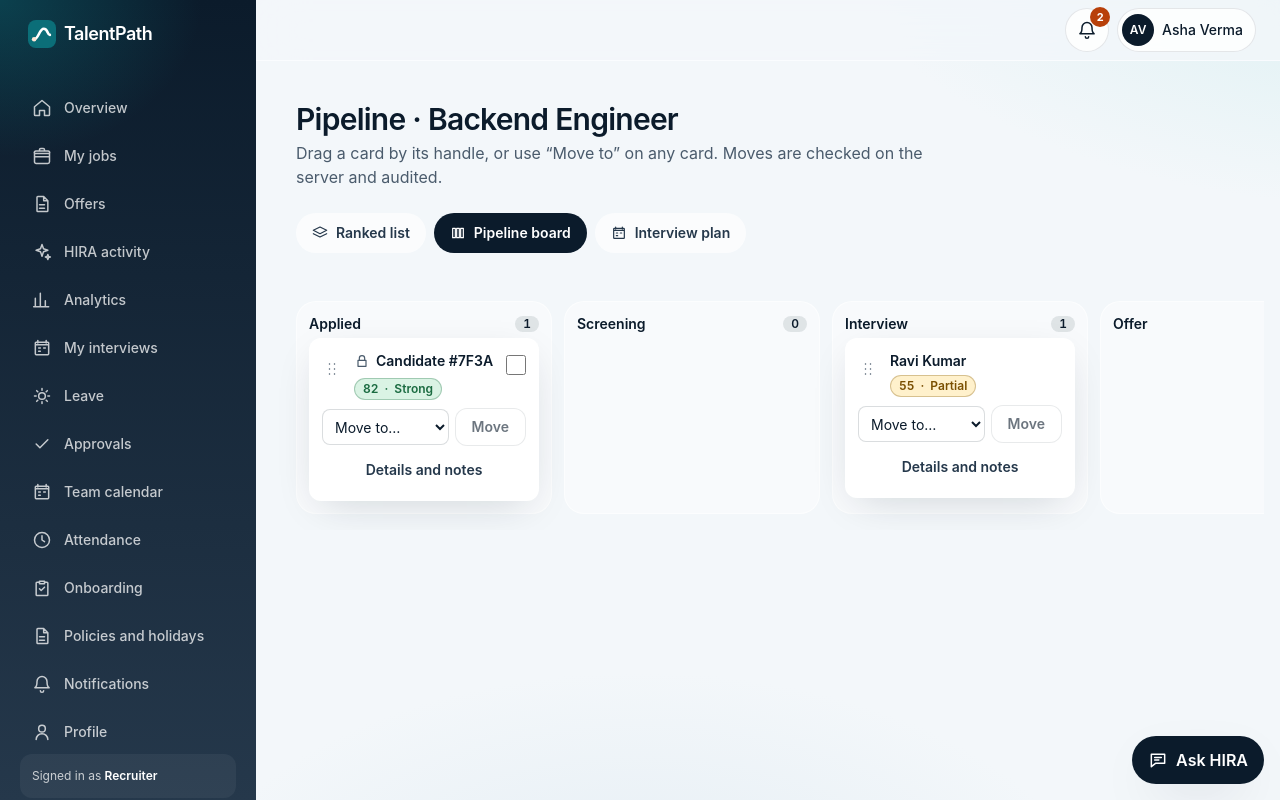
Scenario: pipeline board › moves a card with the keyboard-friendly Move to menu
expect the heading "Applied 1" is shown: met, box [309, 314, 539, 334]
expect the button named "Drag Candidate #7F3A" is shown: met, box [318, 351, 346, 387]
Select "Screening" in the dropdown named "Move Candidate #7F3A to" below "Candidate #7F3A" at [385, 427], box [322, 409, 449, 445]
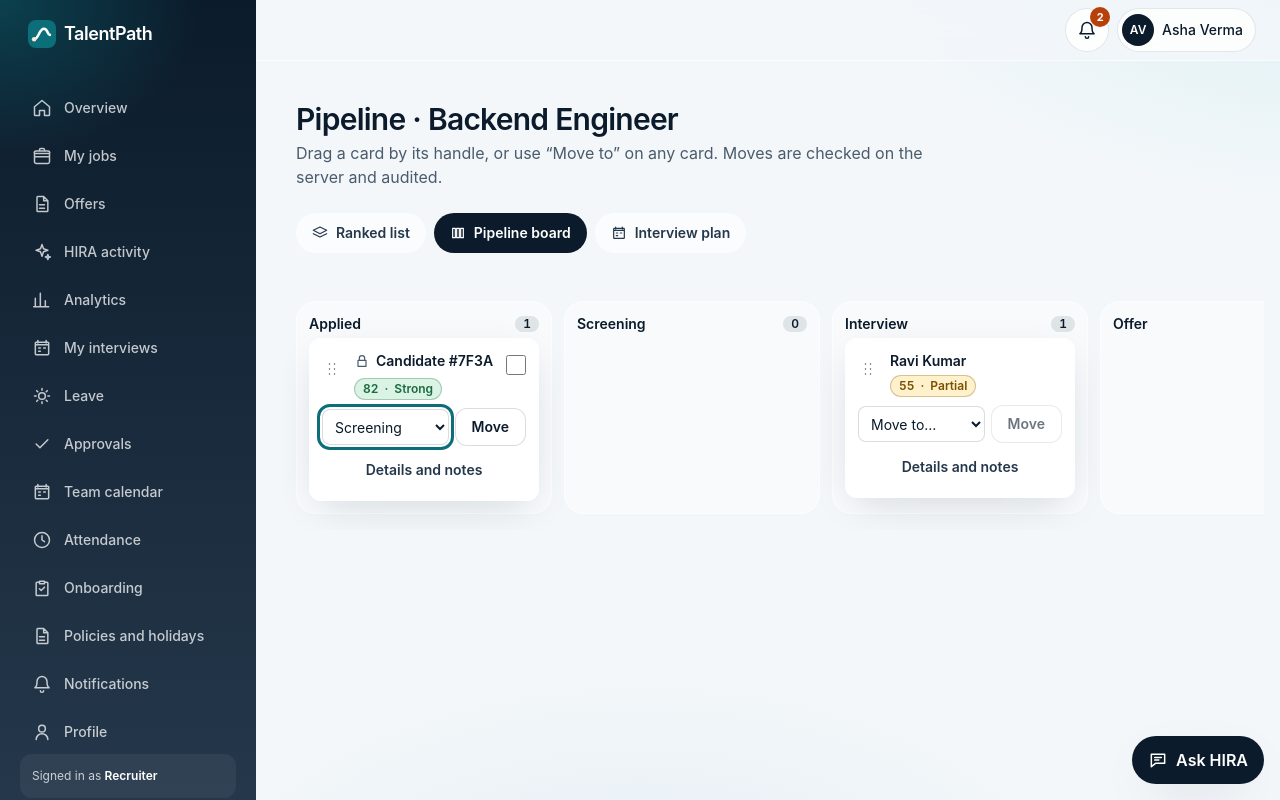
Click the button named "Move Candidate #7F3A" at [490, 427], box [455, 408, 526, 446]
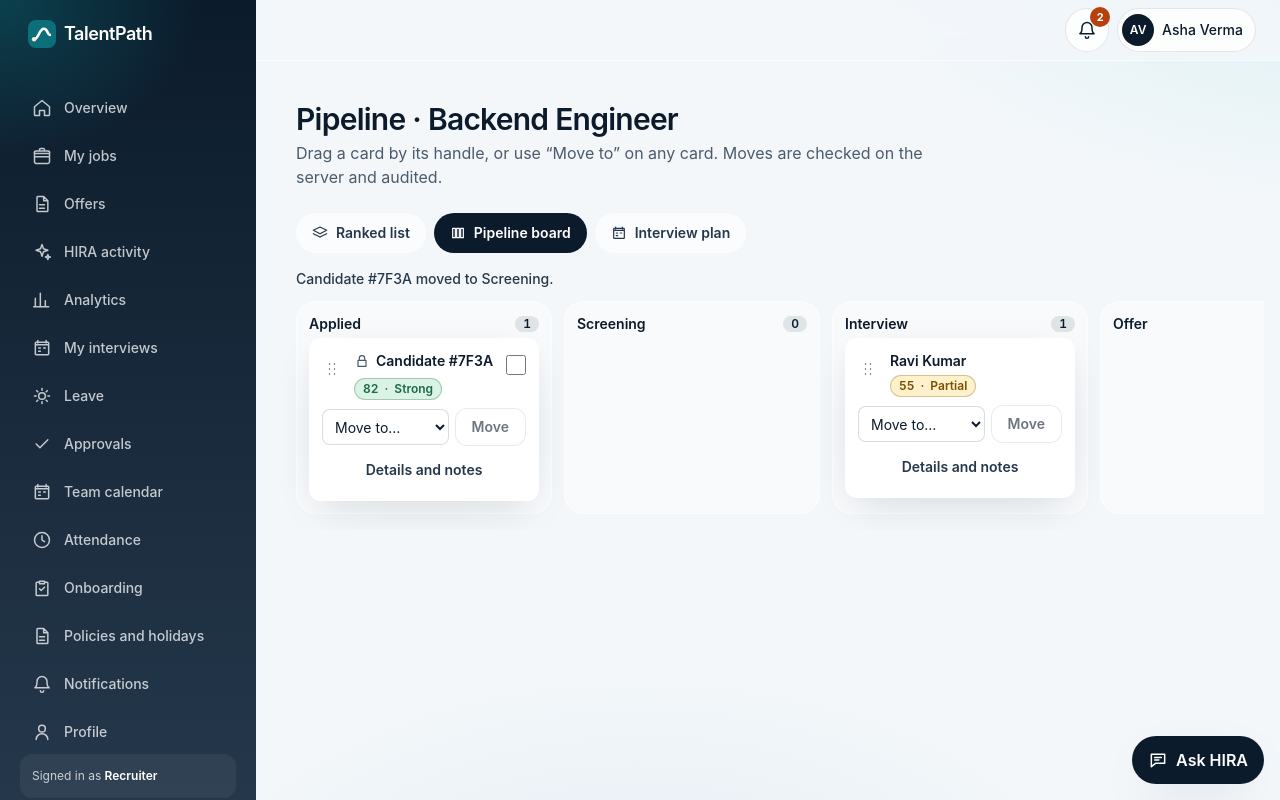
expect the text "Candidate #7F3A moved to Screening." is shown: met, box [296, 270, 554, 287]
